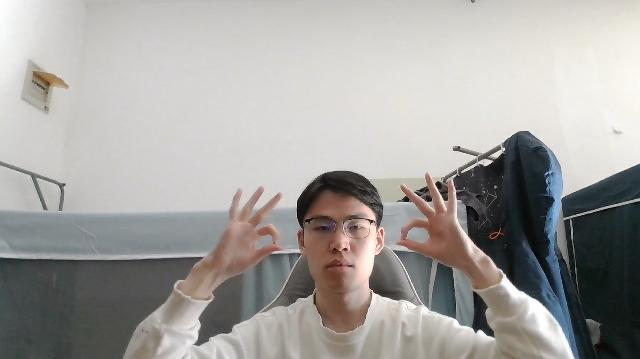ok: (398, 173, 463, 267), (218, 185, 283, 274)
